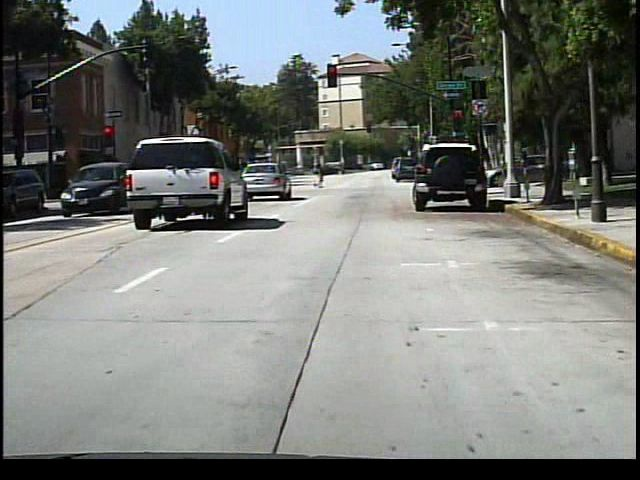person: (550, 140, 571, 187), (311, 157, 330, 192), (459, 152, 476, 185)
